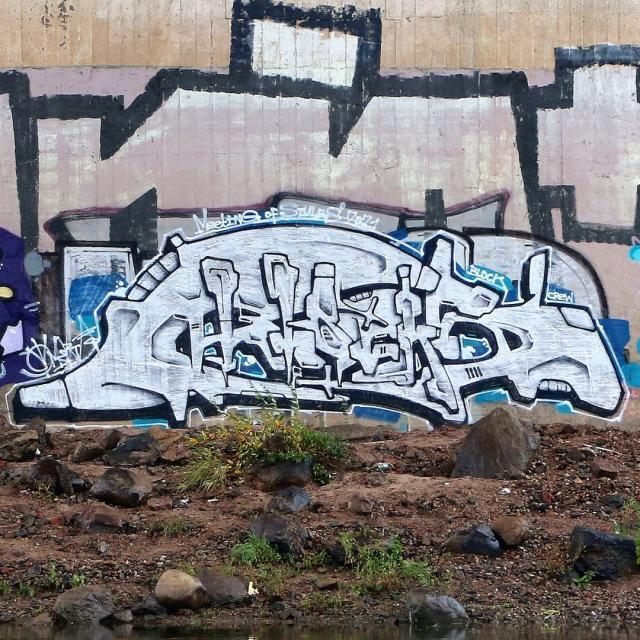nonspitting: (15, 222, 626, 423)
